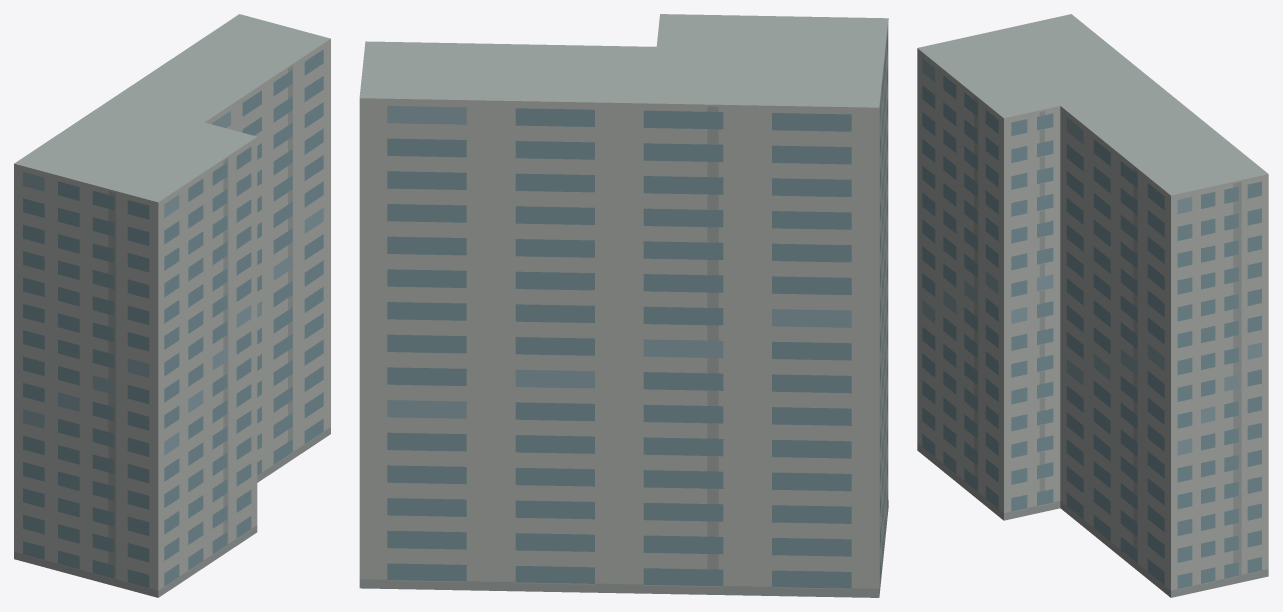
Rendered from residential-348c4198-018e-4ca2-82d4-9b8206f11f69.glb.
The picture shows the model from 3 angles, left to right: view 1: azimuth 30°, elevation 25°; view 2: azimuth 150°, elevation 25°; view 3: azimuth 270°, elevation 25°; orthographic projection. The views are drawn at different scales.
Visible parts, largest first — view 1: residential-348c4198-018e-4ca2-82d4-9b8206f11f69.tmp; view 2: residential-348c4198-018e-4ca2-82d4-9b8206f11f69.tmp; view 3: residential-348c4198-018e-4ca2-82d4-9b8206f11f69.tmp.
Part boxes in pixels (<box>): residential-348c4198-018e-4ca2-82d4-9b8206f11f69.tmp: <box>14,14,330,597</box>; residential-348c4198-018e-4ca2-82d4-9b8206f11f69.tmp: <box>359,14,888,597</box>; residential-348c4198-018e-4ca2-82d4-9b8206f11f69.tmp: <box>917,14,1268,597</box>.
Bounding box in the file's own units: 55.17 × 57 × 45.14.
